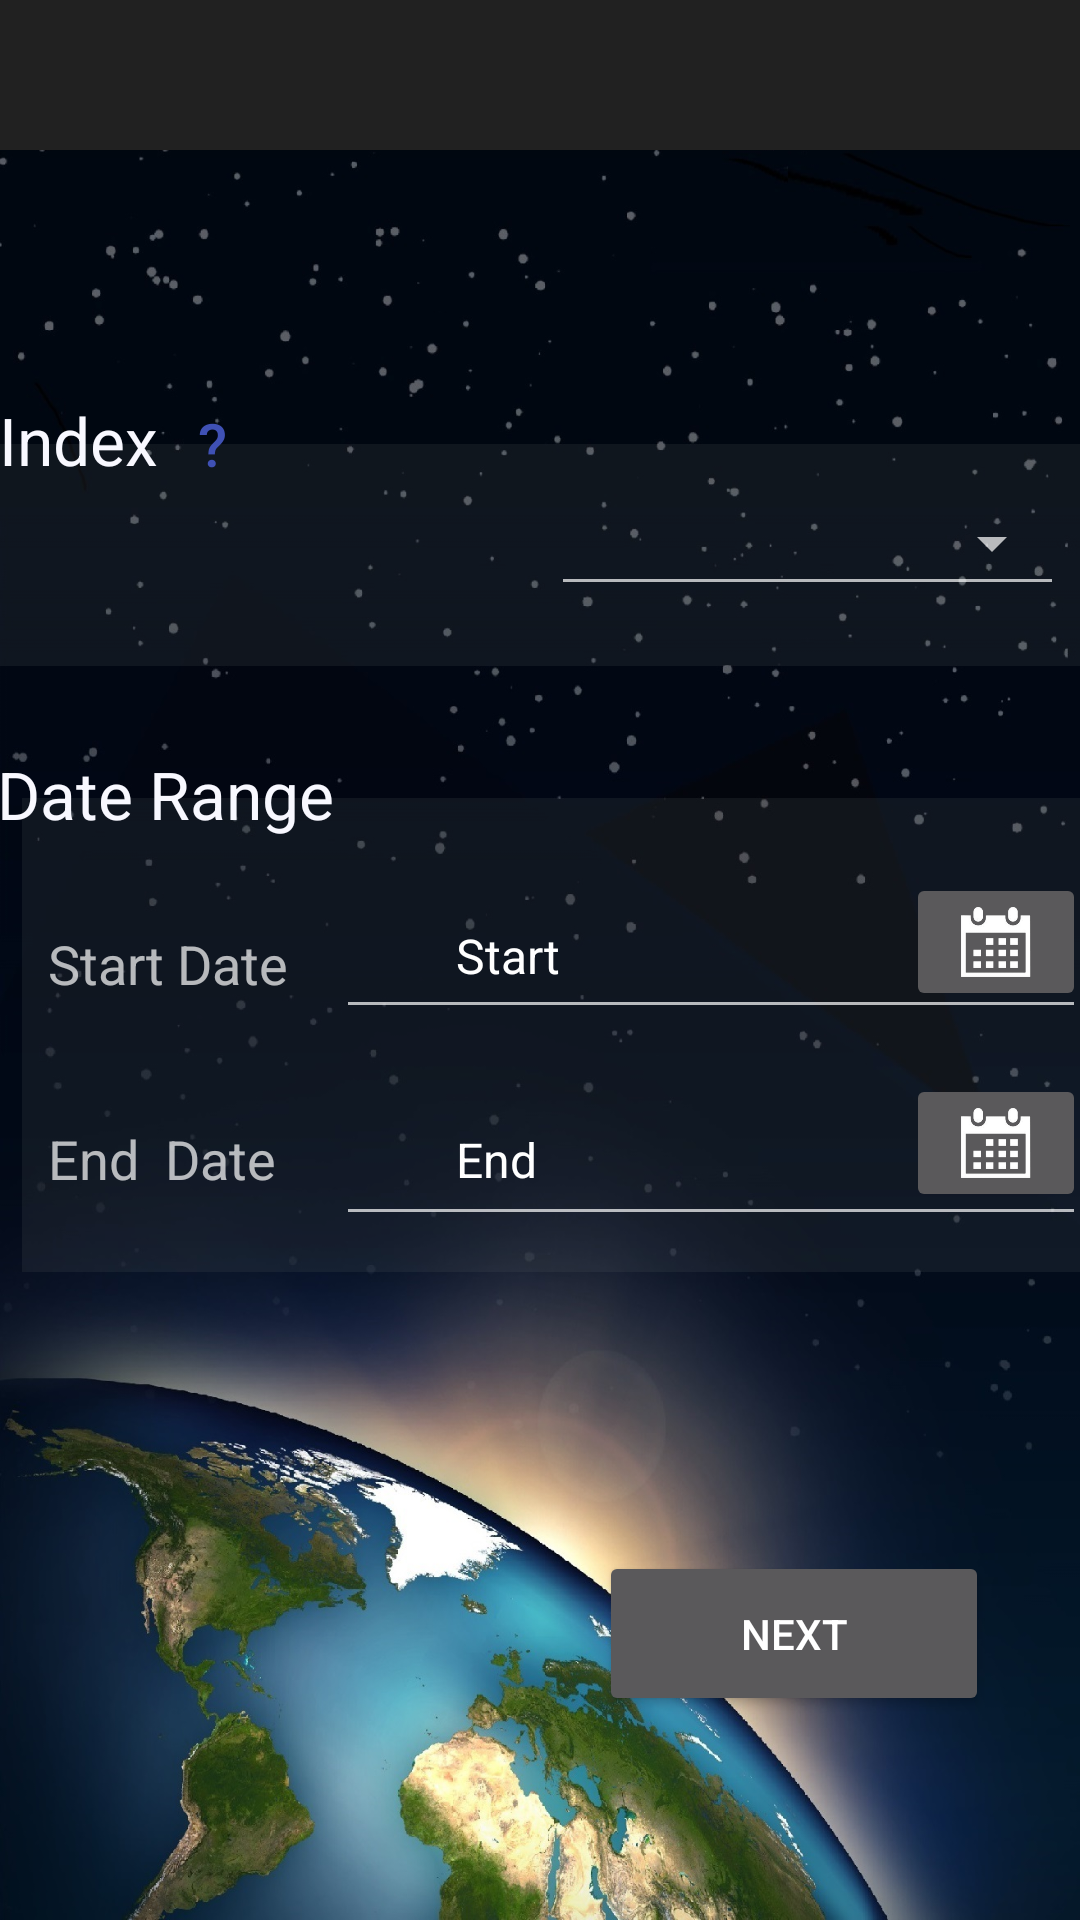

Point at icon controls on the screen. Image size 1080 × 1920, points as point (x, y).
calendaricon: point (996, 942), point (996, 1135)
